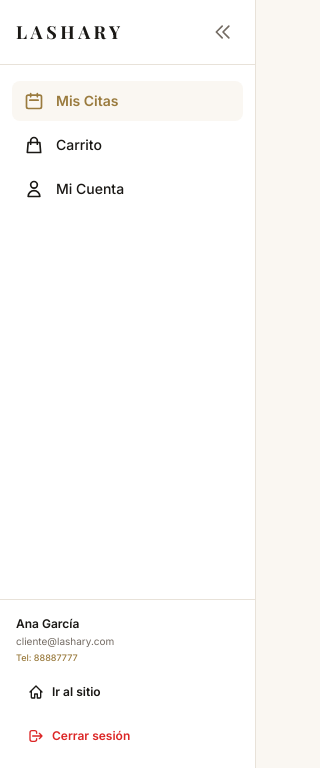
it: ClientSidebar — volver al sitio desde el portal › "Ir al sitio" lleva a la portada y sigue disponible con la barra colapsada
Click the button named "Colapsar barra".
click(223, 32)  # box [207,16,239,48]
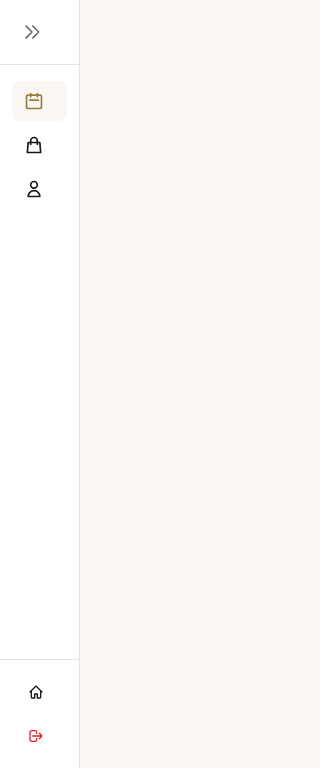
Check: the link "LASHARY" is gone
